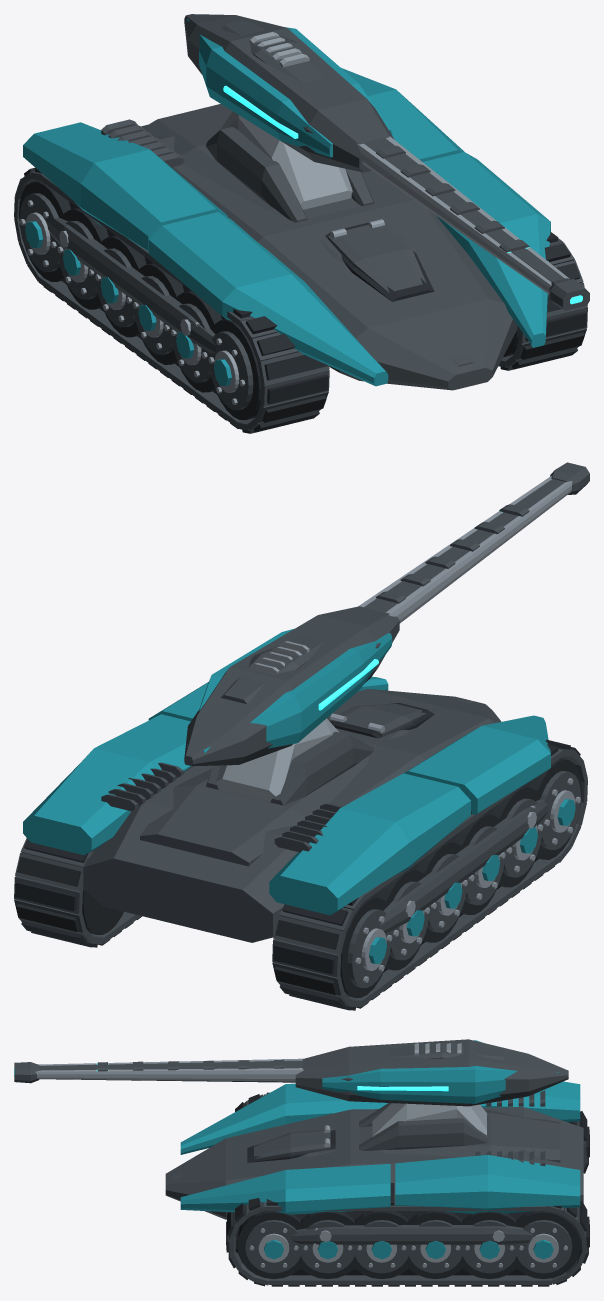
The model's file is close.glb.
The picture shows the model from 3 angles, top to bottom: view 1: azimuth 30°, elevation 25°; view 2: azimuth 150°, elevation 25°; view 3: azimuth 270°, elevation 25°; orthographic projection. The views are drawn at different scales.
Parts seen in each view (by area): view 1: chassis, gaussAssembly, trackL, trackR, roadWheelL0, roadWheelL5, roadWheelL1, roadWheelL2, roadWheelL4, roadWheelL3; view 2: chassis, gaussAssembly, trackL, trackR, roadWheelL5, roadWheelL0, roadWheelL1, roadWheelL4, roadWheelL2, roadWheelL3, roadWheelR5; view 3: chassis, gaussAssembly, trackR, roadWheelR0, roadWheelR5, roadWheelR1, roadWheelR2, roadWheelR3, roadWheelR4, trackL.
Part boxes in pixels (x1,y1,x2,y2): chassis: (23, 68, 550, 390); gaussAssembly: (184, 14, 589, 310); trackL: (14, 167, 329, 433); trackR: (498, 231, 587, 370); roadWheelL0: (208, 319, 261, 419); roadWheelL5: (19, 180, 70, 281); roadWheelL1: (170, 291, 221, 392); roadWheelL2: (133, 263, 183, 364); roadWheelL4: (57, 208, 108, 309); roadWheelL3: (95, 235, 146, 337); chassis: (23, 676, 550, 942); gaussAssembly: (184, 462, 589, 766); trackL: (272, 739, 587, 1010); trackR: (14, 838, 142, 947); roadWheelL5: (340, 896, 392, 997); roadWheelL0: (530, 758, 581, 859); roadWheelL1: (492, 785, 543, 887); roadWheelL4: (379, 869, 429, 970); roadWheelL2: (454, 813, 505, 914); roadWheelL3: (416, 841, 467, 942); roadWheelR5: (82, 889, 123, 934); chassis: (165, 1081, 583, 1244); gaussAssembly: (14, 1039, 568, 1106); trackR: (226, 1183, 589, 1286); roadWheelR0: (237, 1211, 304, 1278); roadWheelR5: (513, 1210, 580, 1279); roadWheelR1: (298, 1211, 358, 1278); roadWheelR2: (351, 1211, 412, 1278); roadWheelR3: (405, 1211, 466, 1278); roadWheelR4: (458, 1211, 520, 1279); trackL: (235, 1092, 589, 1173).
Size of the model in its own units: 1.73 by 1.23 by 3.46.
